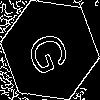G: (25, 25, 79, 79)
